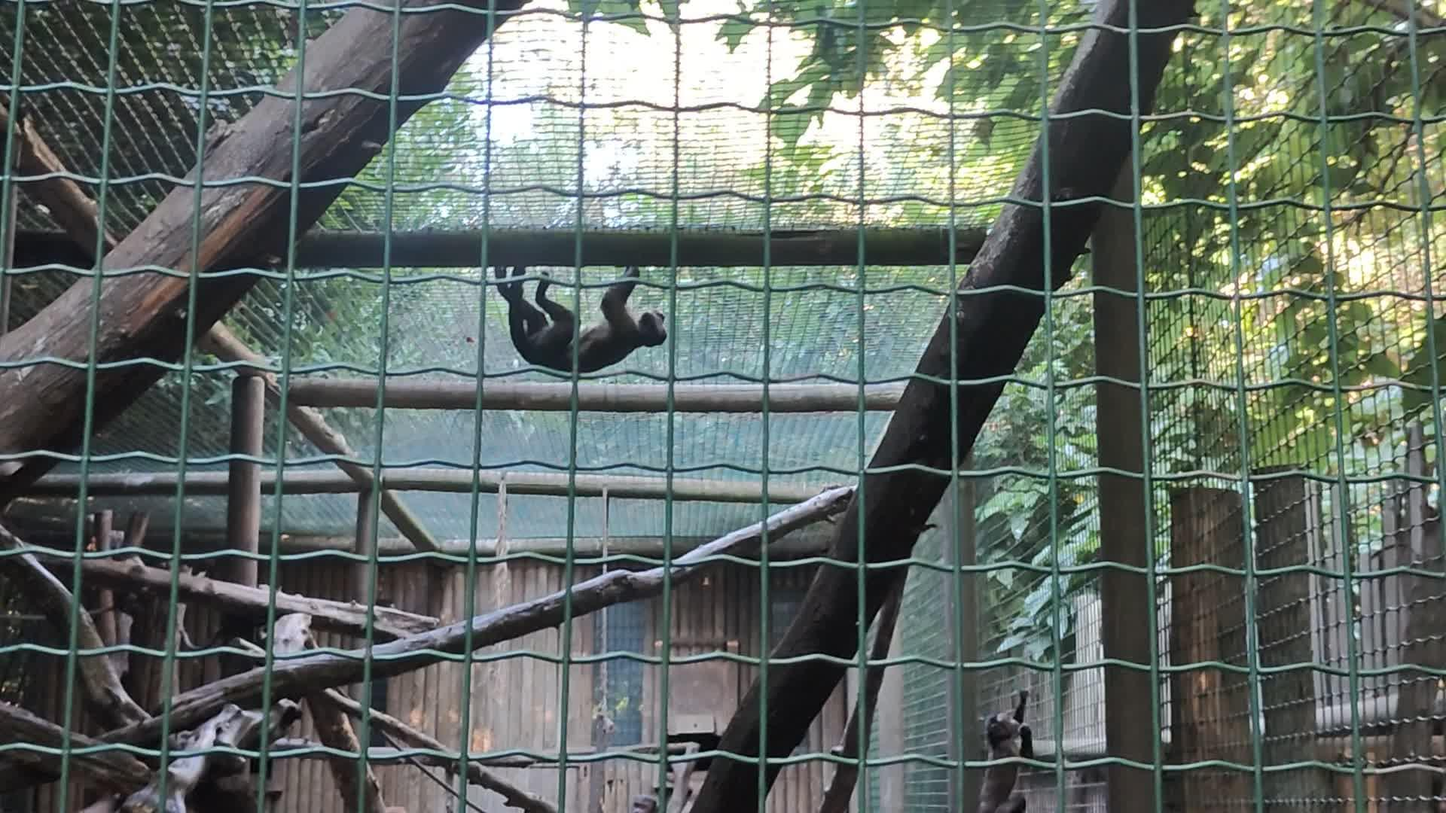boar: (495, 266, 667, 373), (978, 690, 1034, 813)
